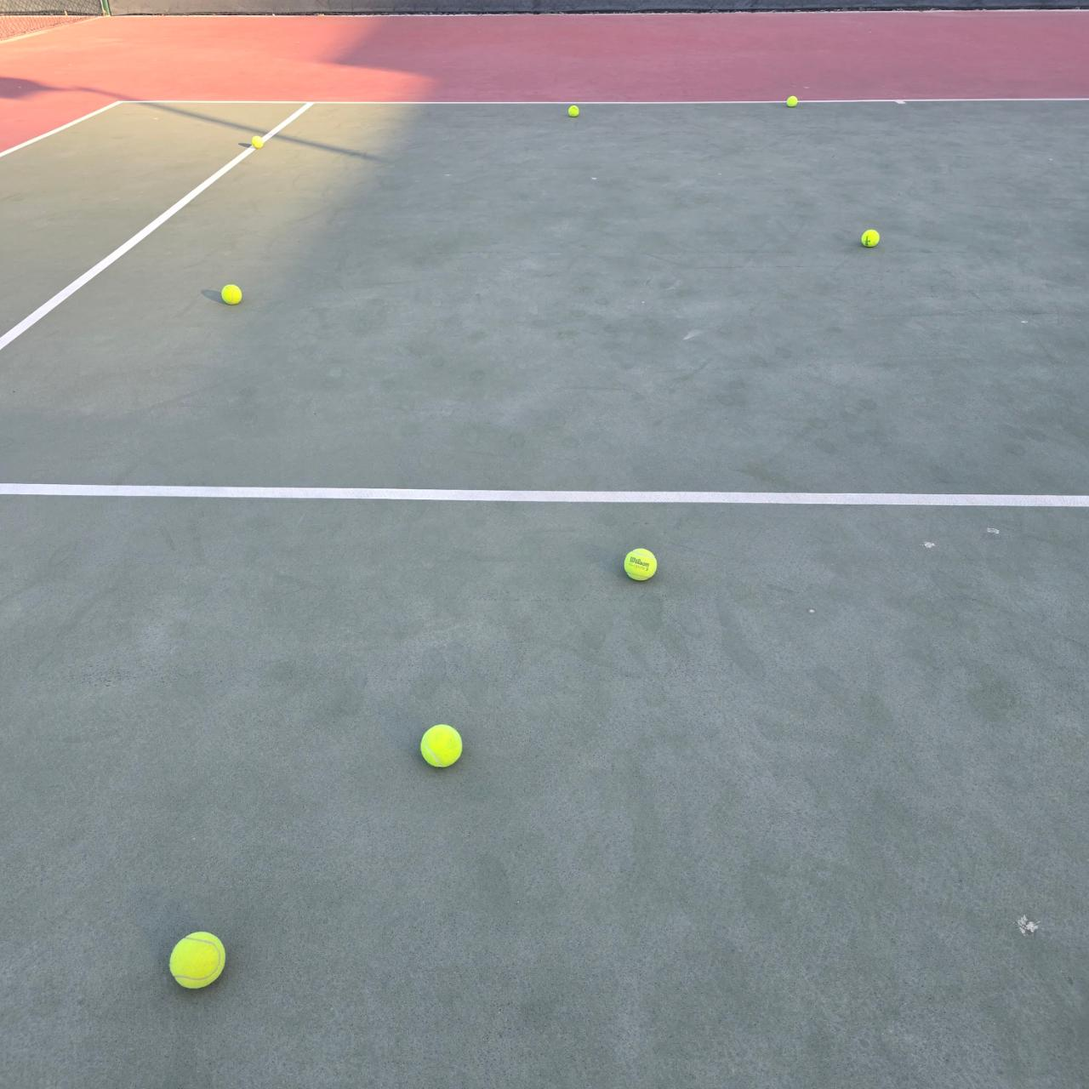tennis-ball: (168, 929, 226, 989), (419, 721, 463, 767), (622, 545, 658, 581), (859, 227, 880, 248), (221, 284, 242, 304), (251, 135, 263, 149), (567, 105, 580, 117), (786, 96, 798, 108)
